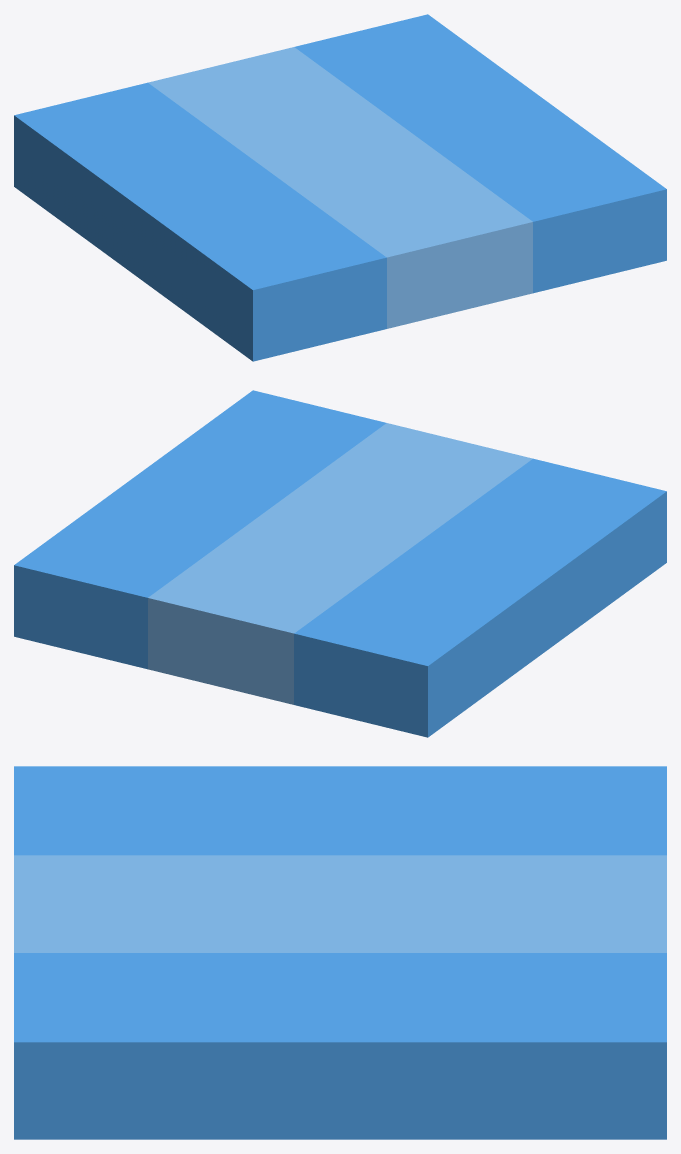
The model's file is Link B Blue.fbx.
The picture shows the model from 3 angles, top to bottom: view 1: azimuth 30°, elevation 25°; view 2: azimuth 150°, elevation 25°; view 3: azimuth 270°, elevation 25°; orthographic projection. The views are drawn at different scales.
Visible parts, largest first — view 1: Link B Blue; view 2: Link B Blue; view 3: Link B Blue.
Part boxes in pixels (left/top/right/bottom): Link B Blue: left=14, top=14, right=666, bottom=361; Link B Blue: left=14, top=390, right=666, bottom=737; Link B Blue: left=14, top=766, right=666, bottom=1139.
Bounding box in the file's own units: 300 × 49.49 × 300.
